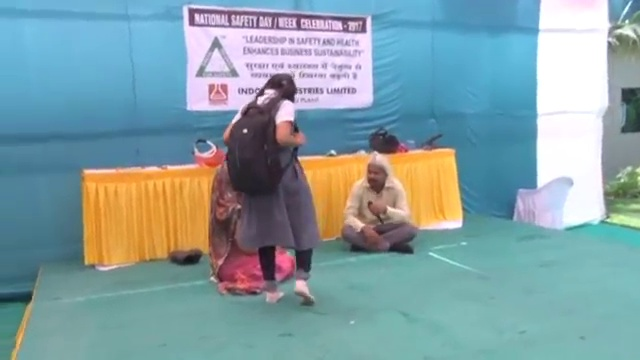helmet_off: (263, 73, 297, 102), (365, 153, 388, 191)
person: (223, 73, 318, 306), (205, 157, 298, 293), (337, 152, 418, 255)
